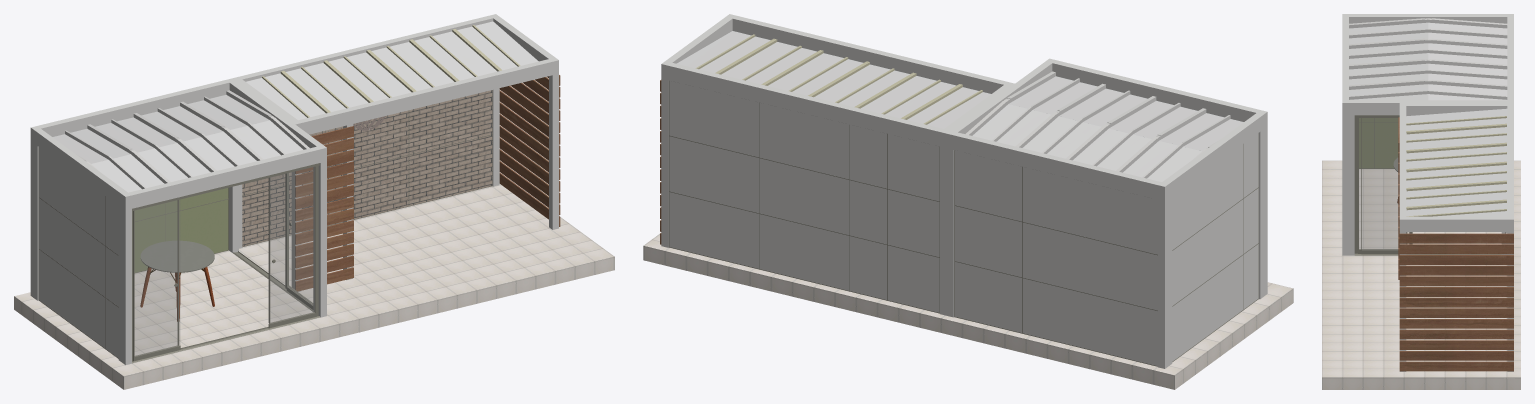
File: agp5-g_matwhite.fbx
The picture shows the model from 3 angles, left to right: view 1: azimuth 30°, elevation 25°; view 2: azimuth 150°, elevation 25°; view 3: azimuth 270°, elevation 25°; orthographic projection. The views are drawn at different scales.
Parts seen in each view (by area): view 1: agp5-g_matwhite_ファニチャーなし; view 2: agp5-g_matwhite_ファニチャーなし; view 3: agp5-g_matwhite_ファニチャーなし.
Boxes of the visible parts, box(x1,y1,x2,y2) form: agp5-g_matwhite_ファニチャーなし: box(14, 14, 614, 389); agp5-g_matwhite_ファニチャーなし: box(643, 14, 1293, 389); agp5-g_matwhite_ファニチャーなし: box(1322, 14, 1520, 389).
Bounding box in the file's own units: 763 × 270 × 295.
Materials: 25 (17 with a texture image).
